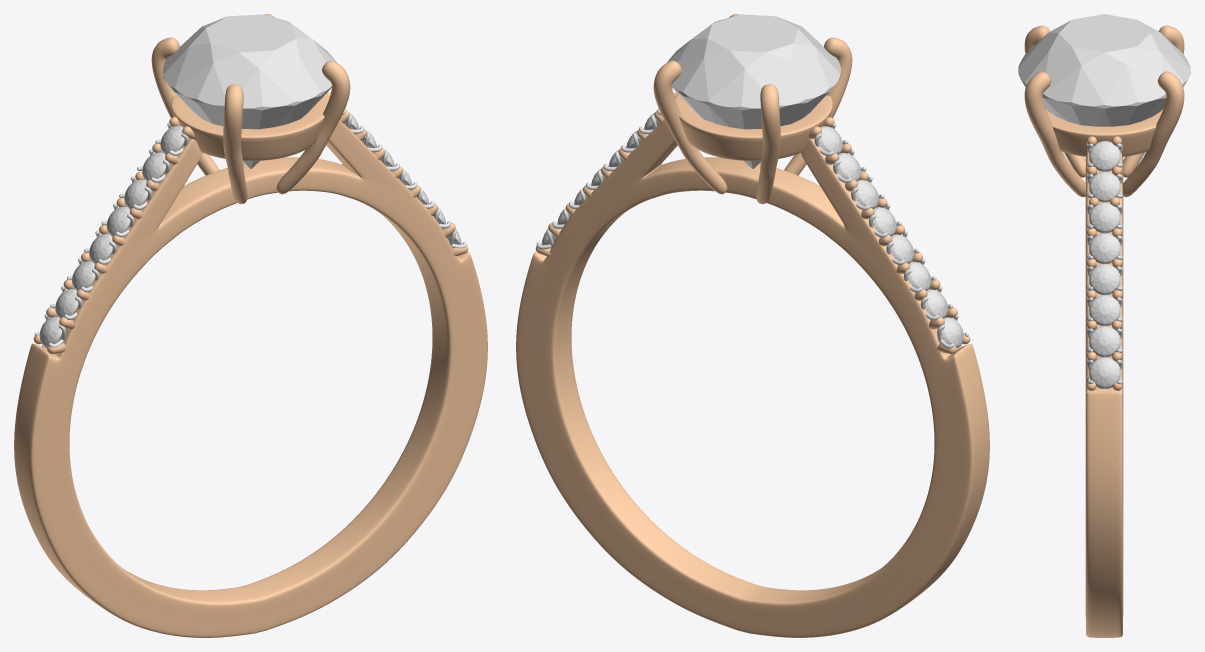
Rendered from diamond_ring_candidate.fbx.
The picture shows the model from 3 angles, left to right: view 1: azimuth 30°, elevation 25°; view 2: azimuth 150°, elevation 25°; view 3: azimuth 270°, elevation 25°; orthographic projection. The views are drawn at different scales.
Parts seen in each view (by area): view 1: Ring, Diamond, GEMS; view 2: Ring, Diamond, GEMS; view 3: Ring, Diamond, GEMS.
Part boxes in pixels (box(x1,y1,x2,y2)): Ring: box(14, 14, 487, 637); Diamond: box(162, 14, 336, 168); GEMS: box(39, 112, 461, 347); Ring: box(516, 14, 989, 637); Diamond: box(667, 14, 841, 168); GEMS: box(541, 112, 963, 347); Ring: box(1024, 25, 1184, 637); Diamond: box(1018, 14, 1190, 126); GEMS: box(1089, 141, 1120, 388).
Bounding box in the file's own units: 138 × 171 × 46.05.
